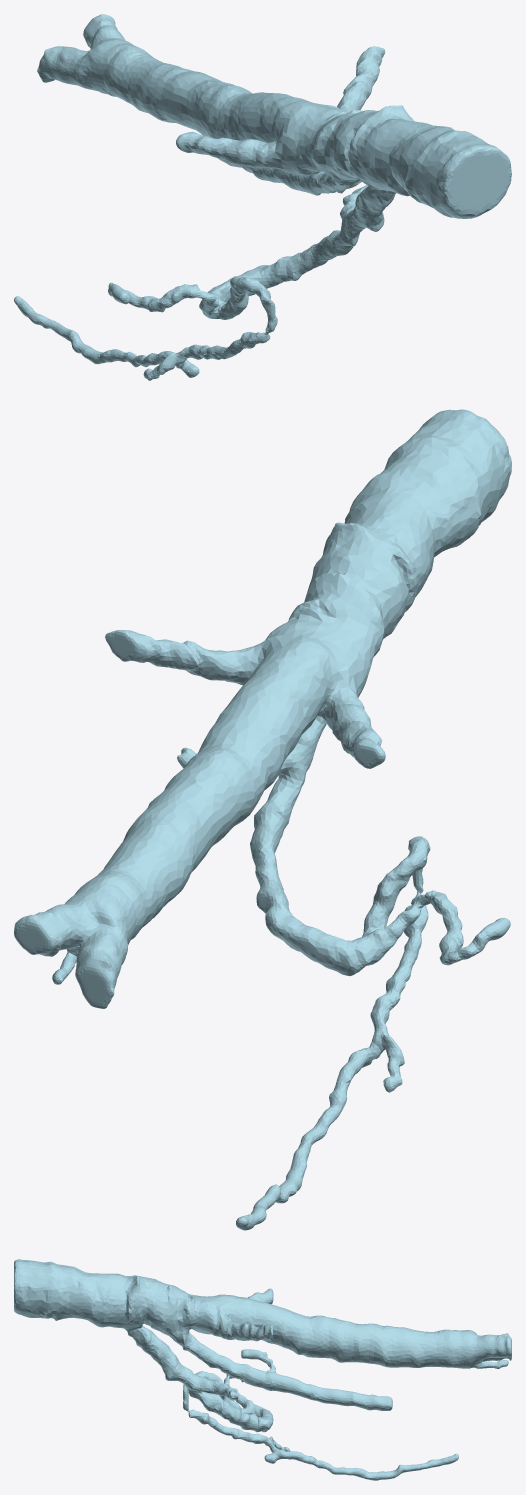
Rendered from artery.obj.
The picture shows the model from 3 angles, top to bottom: view 1: azimuth 30°, elevation 25°; view 2: azimuth 150°, elevation 25°; view 3: azimuth 270°, elevation 25°; orthographic projection. The views are drawn at different scales.
Visible parts, largest first — view 1: grp1; view 2: grp1; view 3: grp1.
Part boxes in pixels (bbox=[...]): grp1: bbox=[14, 14, 511, 380]; grp1: bbox=[14, 409, 511, 1230]; grp1: bbox=[14, 1259, 511, 1480].
Bounding box in the file's own units: 79.41 × 98.92 × 171.
